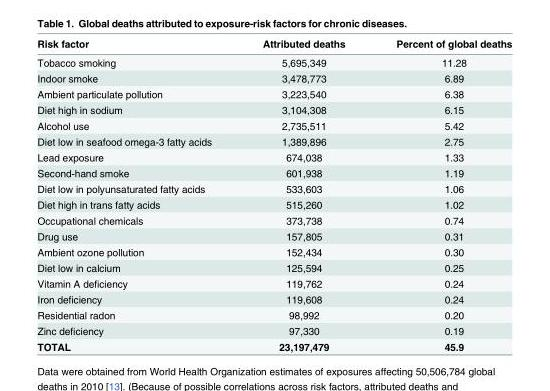table: (36, 37, 511, 352)
table column: (36, 37, 236, 352), (369, 37, 511, 352), (236, 37, 369, 352)
table column header: (36, 37, 511, 52)
table row: (36, 52, 511, 70), (36, 85, 511, 101), (36, 101, 511, 117), (36, 117, 511, 133), (36, 133, 511, 149), (36, 164, 511, 180), (36, 180, 511, 196), (36, 196, 511, 212), (36, 227, 511, 243), (36, 243, 511, 259), (36, 259, 511, 275), (36, 275, 511, 291), (36, 306, 511, 322), (36, 322, 511, 338), (36, 37, 511, 52), (36, 70, 511, 85), (36, 149, 511, 164), (36, 212, 511, 227), (36, 291, 511, 306), (36, 338, 511, 352)
